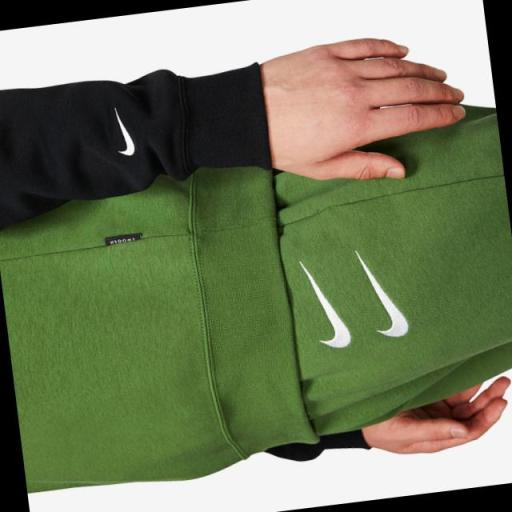Nike: (297, 252, 356, 354)
